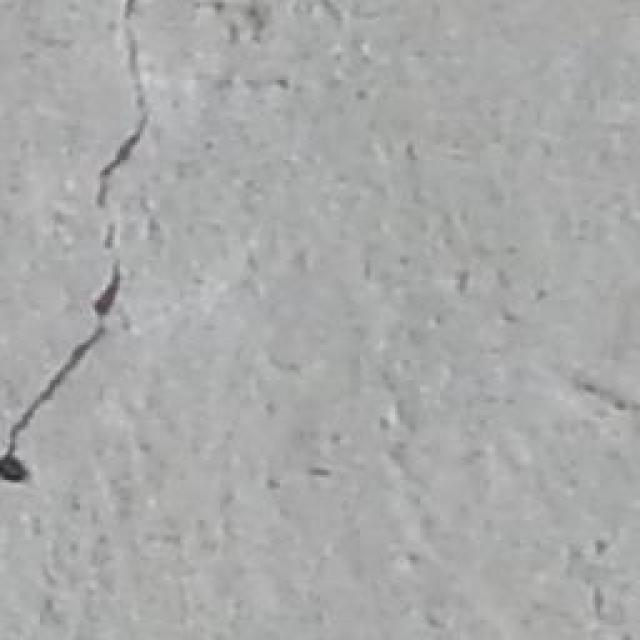concrete-crack: (0, 0, 151, 495)
